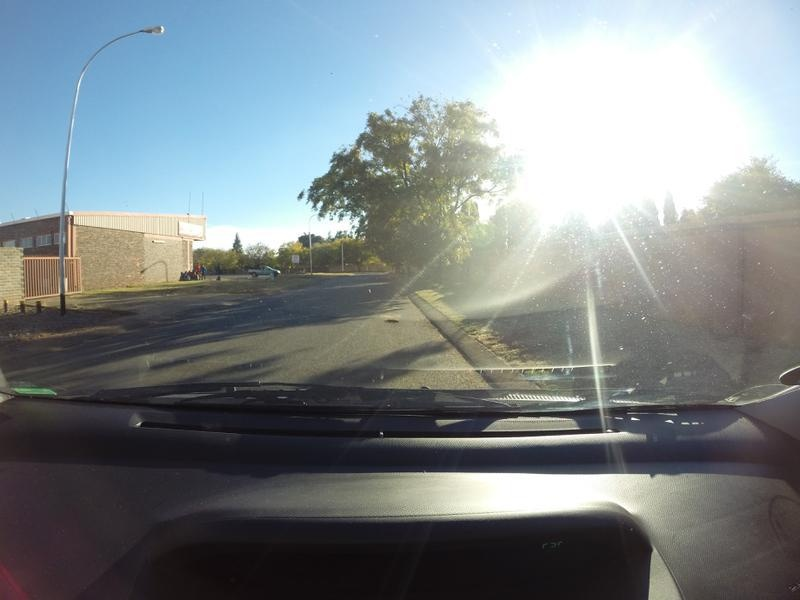pothole: (361, 314, 406, 328)
